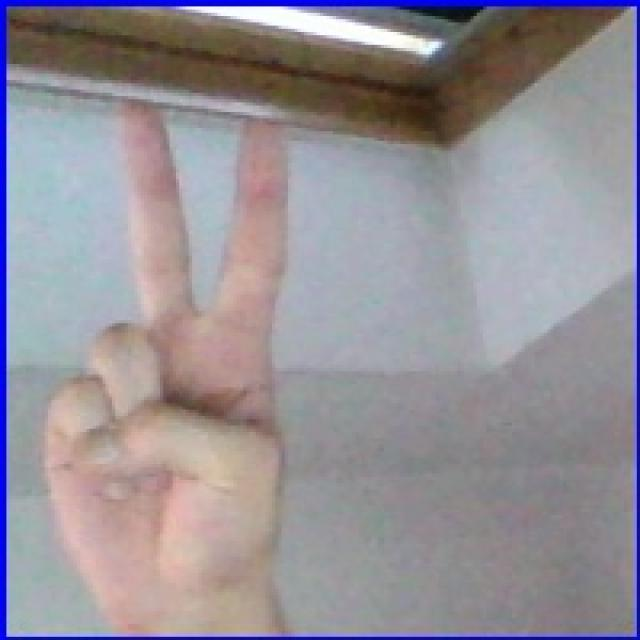Letra-V: (27, 88, 328, 606)
